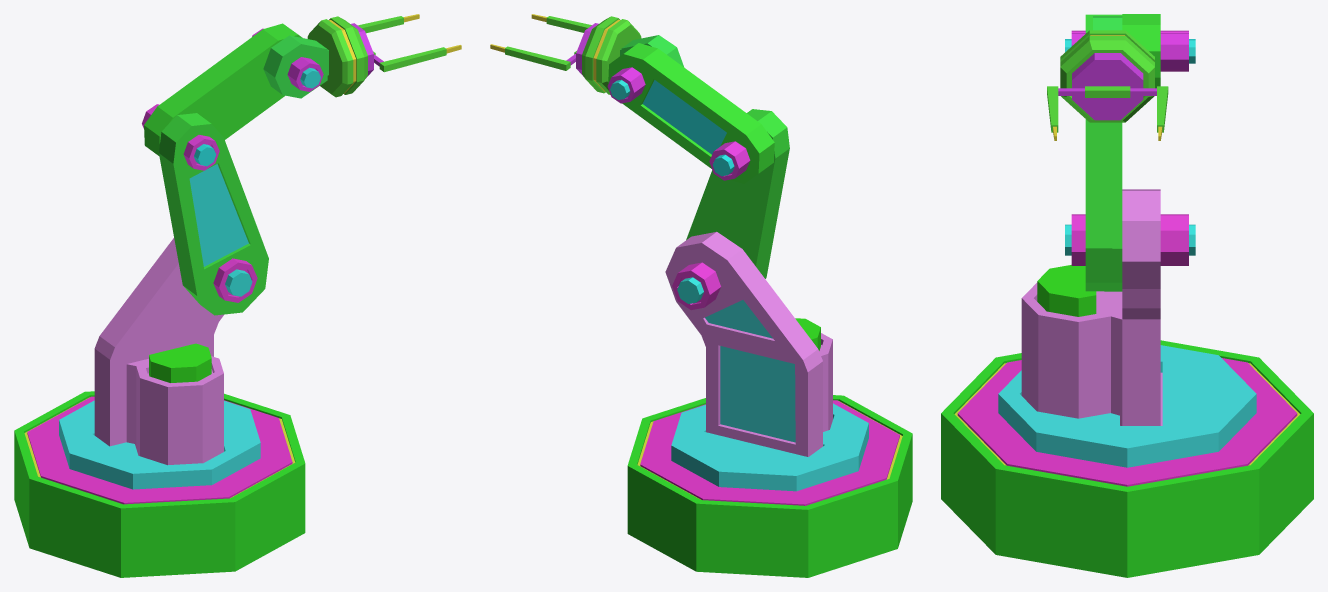
File: Robot_Arm_01.fbx
3 renders of one model, left to right at view 1: azimuth 30°, elevation 25°; view 2: azimuth 150°, elevation 25°; view 3: azimuth 270°, elevation 25°, orthographic. The views are drawn at different scales.
Visible parts, largest first — view 1: Robot_Arm_01_A, Robot_Arm_01_B, Robot_Arm_01_C, Robot_Arm_01_D, Robot_Arm_01_F, Robot_Arm_01_E; view 2: Robot_Arm_01_B, Robot_Arm_01_A, Robot_Arm_01_D, Robot_Arm_01_C, Robot_Arm_01_F, Robot_Arm_01_E; view 3: Robot_Arm_01_A, Robot_Arm_01_B, Robot_Arm_01_C, Robot_Arm_01_F, Robot_Arm_01_E, Robot_Arm_01_D.
Part boxes in pixels (x1,y1,x2,y2): Robot_Arm_01_A: [14, 391, 305, 577]; Robot_Arm_01_B: [59, 238, 260, 489]; Robot_Arm_01_C: [159, 113, 268, 315]; Robot_Arm_01_D: [142, 23, 302, 170]; Robot_Arm_01_F: [307, 14, 461, 97]; Robot_Arm_01_E: [252, 28, 328, 98]; Robot_Arm_01_B: [665, 231, 868, 491]; Robot_Arm_01_A: [627, 395, 912, 577]; Robot_Arm_01_D: [608, 43, 774, 183]; Robot_Arm_01_C: [672, 109, 789, 310]; Robot_Arm_01_F: [490, 14, 641, 94]; Robot_Arm_01_E: [607, 35, 683, 103]; Robot_Arm_01_A: [941, 340, 1313, 577]; Robot_Arm_01_B: [998, 189, 1256, 467]; Robot_Arm_01_C: [1065, 14, 1195, 291]; Robot_Arm_01_F: [1047, 30, 1168, 140]; Robot_Arm_01_E: [1065, 16, 1195, 69]; Robot_Arm_01_D: [1065, 14, 1195, 88].
Bounding box in the file's own units: 85.98 × 93.36 × 55.72.
